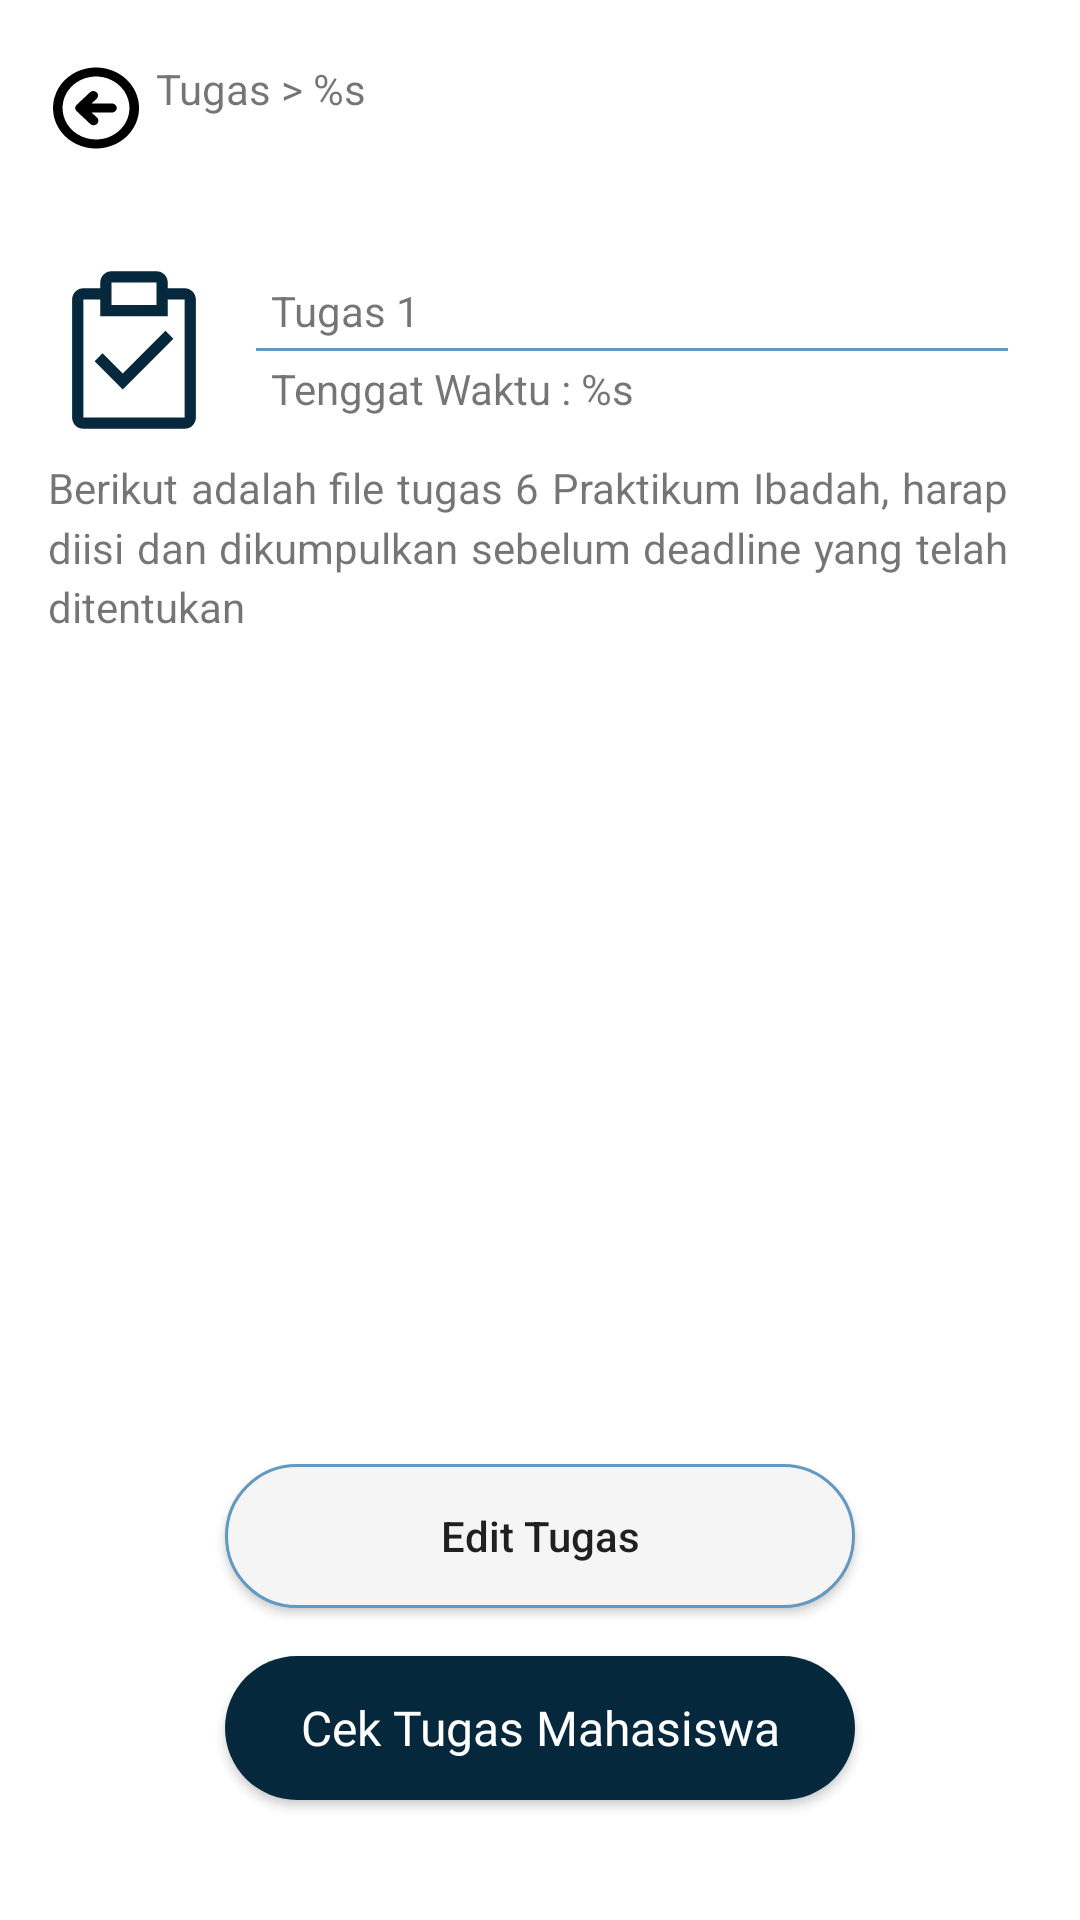

Screen size 1080×1920. Icon name, then its center in pixels as (x,y):
Icon Task Tugas: (134,350)
Tombol Back Materi Dosen: (96,108)
